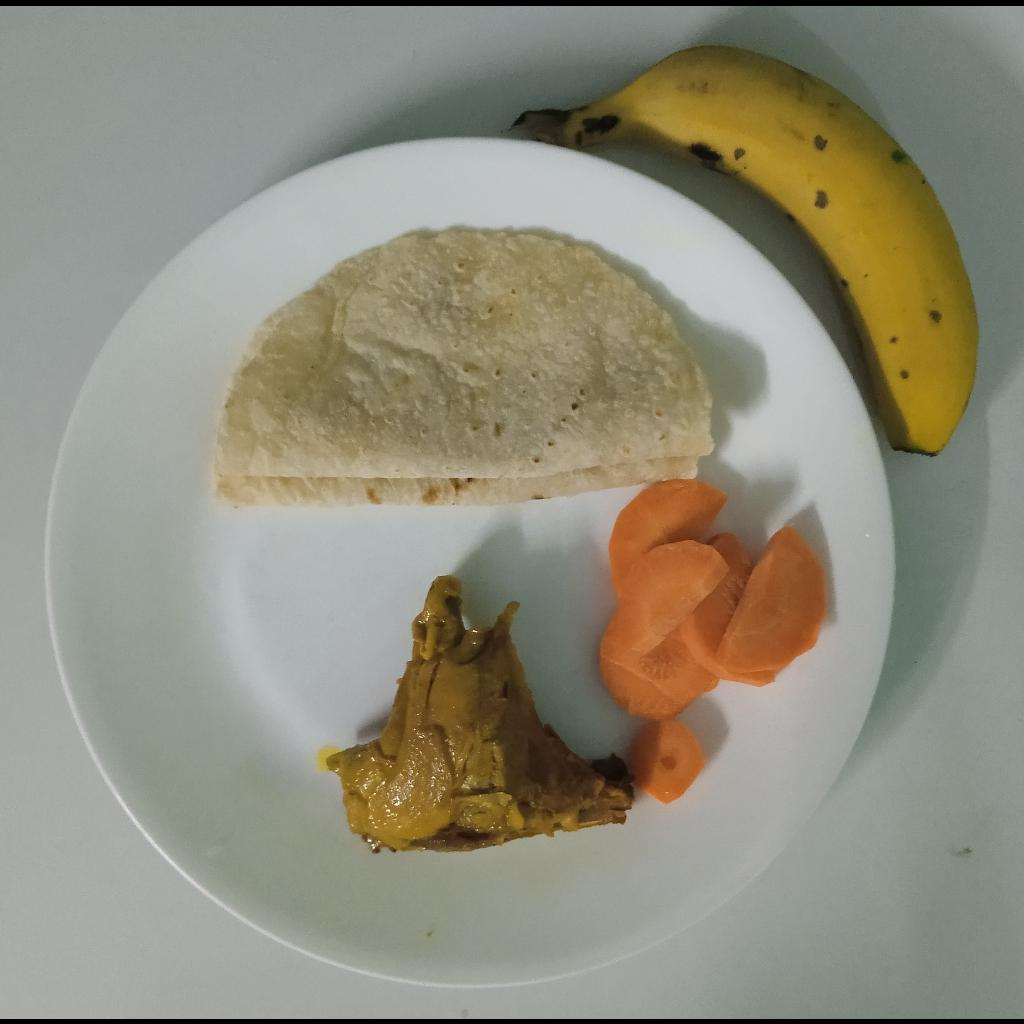banana: (507, 44, 978, 455)
carrot: (599, 480, 826, 805)
chicken: (321, 580, 633, 853)
ruti: (211, 227, 715, 511)
